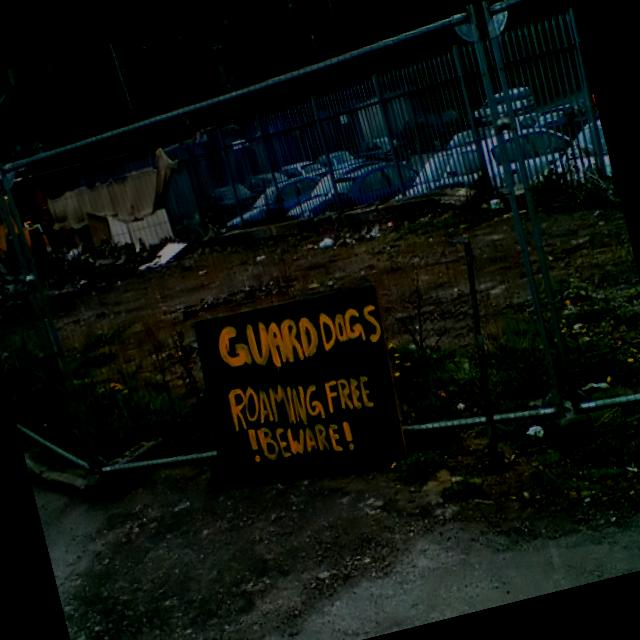Vehicle: (301, 150, 424, 218), (478, 114, 578, 190), (219, 171, 329, 232), (540, 114, 614, 190), (398, 142, 487, 202), (275, 170, 350, 222), (199, 175, 266, 228), (471, 83, 536, 125), (362, 128, 414, 170), (532, 100, 580, 140), (247, 166, 294, 197), (280, 156, 326, 180), (318, 148, 355, 174)
